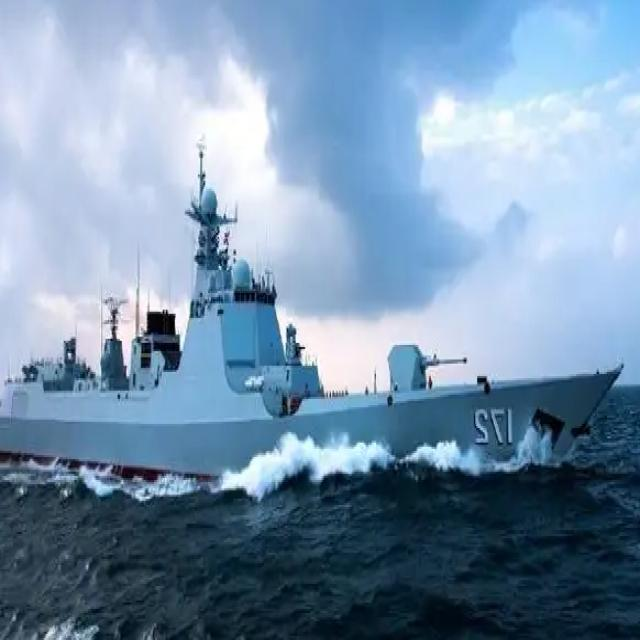navalvessels: (0, 144, 625, 468)
